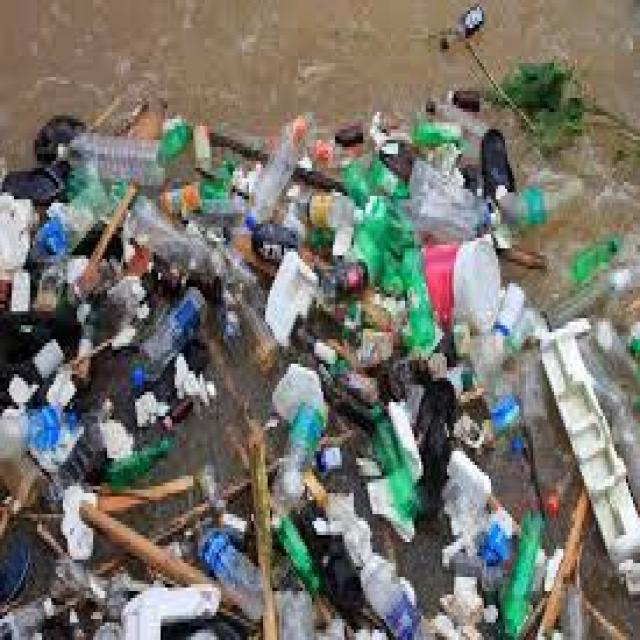heap: (31, 201, 490, 631)
